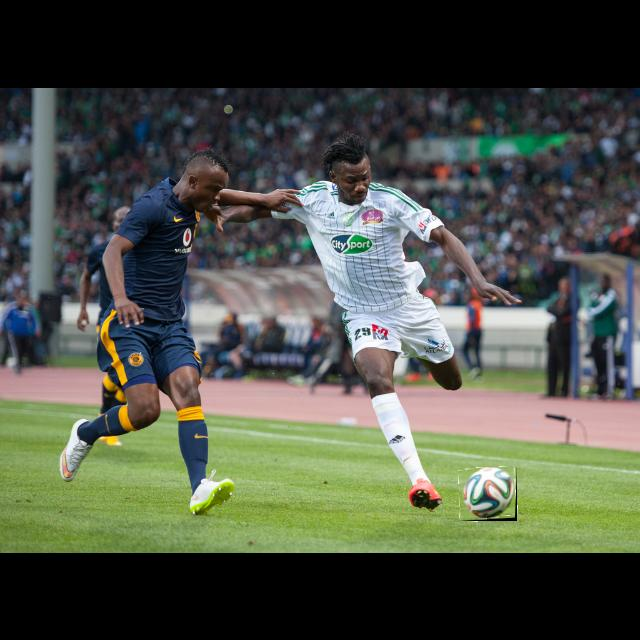Football: (459, 467, 517, 521)
